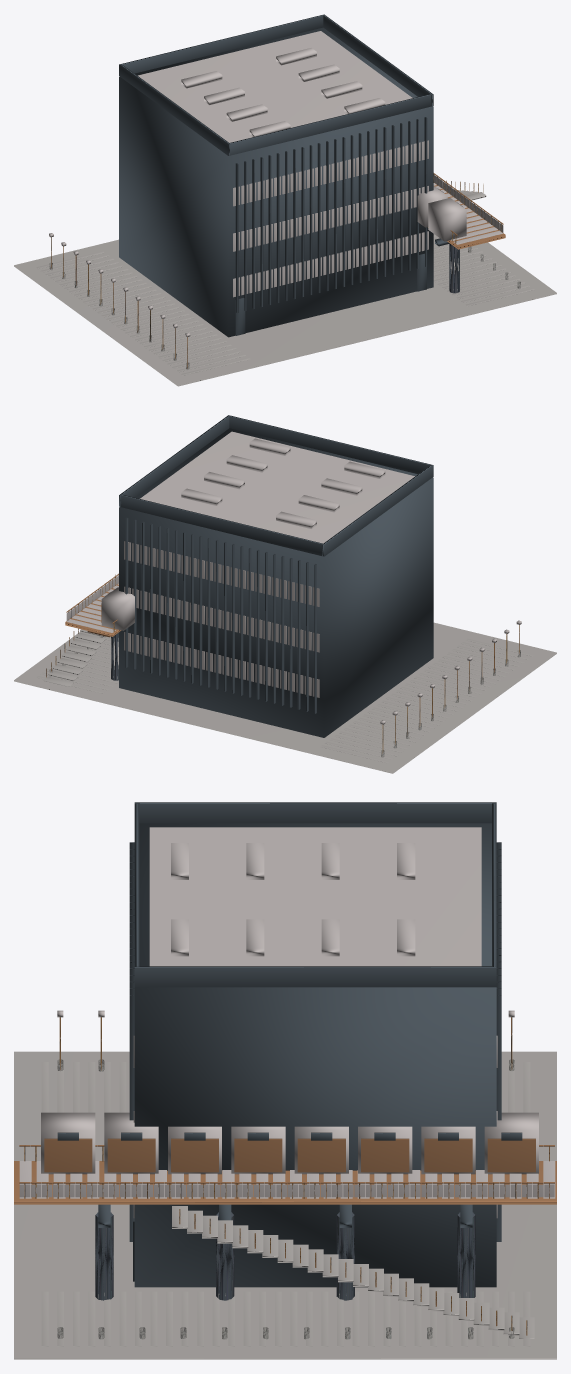
3 renders of one model, top to bottom at view 1: azimuth 30°, elevation 25°; view 2: azimuth 150°, elevation 25°; view 3: azimuth 270°, elevation 25°, orthographic. The views are drawn at different scales.
Visible parts, largest first — view 1: sewoon_brutalist_building_mass, sewoon_plaza_ground, sewoon_seoul_rooftop_deck, sewoon_elevated_skywalk_deck, sewoon_makers_cubes_workshops; view 2: sewoon_brutalist_building_mass, sewoon_seoul_rooftop_deck, sewoon_plaza_ground, sewoon_elevated_skywalk_deck, sewoon_access_ramp_and_stairs, sewoon_makers_cubes_workshops; view 3: sewoon_brutalist_building_mass, sewoon_seoul_rooftop_deck, sewoon_plaza_ground, sewoon_elevated_skywalk_deck, sewoon_makers_cubes_workshops, sewoon_access_ramp_and_stairs.
Part boxes in pixels (x1,y1,x2,y2): sewoon_brutalist_building_mass: (119, 27, 433, 337); sewoon_plaza_ground: (14, 233, 556, 386); sewoon_seoul_rooftop_deck: (119, 14, 433, 155); sewoon_elevated_skywalk_deck: (428, 173, 505, 293); sewoon_makers_cubes_workshops: (417, 186, 466, 241); sewoon_brutalist_building_mass: (119, 428, 433, 737); sewoon_seoul_rooftop_deck: (119, 415, 433, 556); sewoon_plaza_ground: (14, 620, 556, 773); sewoon_elevated_skywalk_deck: (65, 573, 121, 680); sewoon_access_ramp_and_stairs: (43, 574, 115, 686); sewoon_makers_cubes_workshops: (101, 587, 134, 630); sewoon_brutalist_building_mass: (129, 823, 501, 1287); sewoon_seoul_rooftop_deck: (134, 802, 496, 987); sewoon_plaza_ground: (14, 1010, 556, 1359); sewoon_elevated_skywalk_deck: (14, 1145, 556, 1300); sewoon_makers_cubes_workshops: (41, 1112, 538, 1174); sewoon_access_ramp_and_stairs: (172, 1206, 534, 1338).
Size of the model in its own units: 48 by 23.5 by 36.
5 materials, 5 textured.
